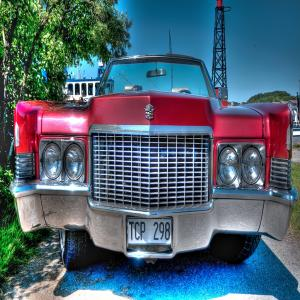Vehicle-registration-plate: (123, 220, 178, 252)
